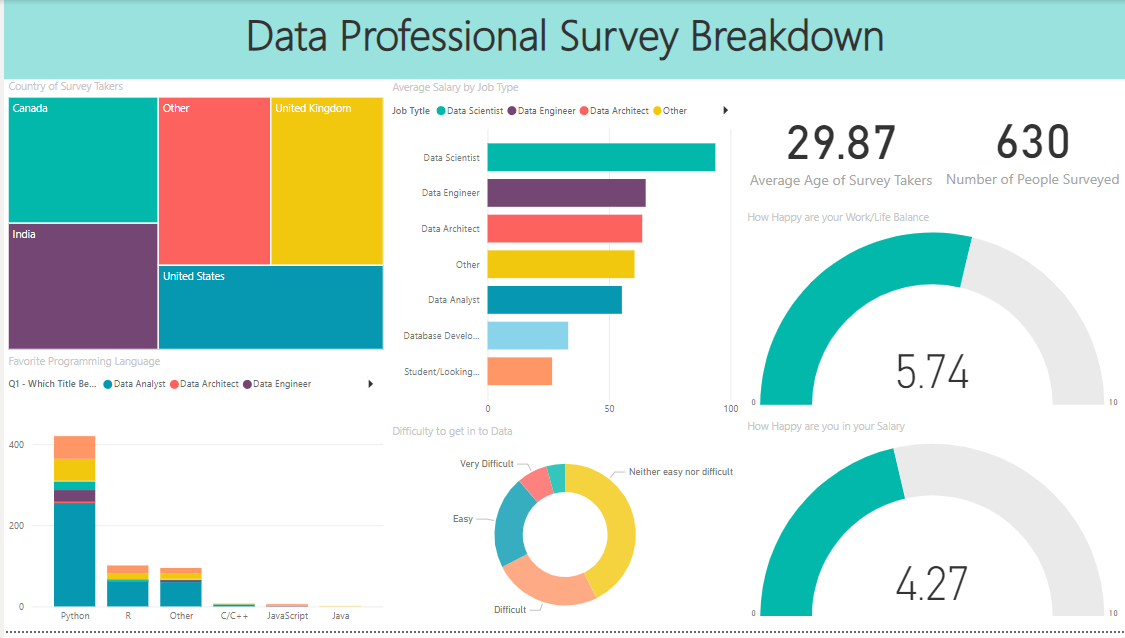

What the dashboard file says about the page in this screenshot:
{"tool":"powerbi","page":{"name":"Page 1","canvas":[1280,720],"ordinal":0},"visuals":[{"type":"textbox","box":[0,0,1280.6,90.5],"z":0},{"type":"card","fields":{"Values":["CountNonNull(Data Professional Survey.Unique ID)"]},"box":[1066.7,89.8,213.9,149.7],"z":1},{"type":"card","fields":{"Values":["Avg(Data Professional Survey.Q10 - Current Age)"]},"box":[842.8,91.3,223.9,149.7],"z":2},{"type":"barChart","title":"Average Salary by Job Type","fields":{"Category":["Data Professional Survey.Q1 - Which Title Best Fits your Current Role?.1"],"Y":["Avg(Data Professional Survey.Average Salery)"],"Series":["Data Professional Survey.Q1 - Which Title Best Fits your Current Role?.1"]},"box":[437.8,91.3,405,392.2],"z":3},{"type":"columnChart","title":"Favorite Programming Language","fields":{"Category":["Data Professional Survey.Q5 - Favorite Programming Language.1"],"Y":["CountNonNull(Data Professional Survey.Unique ID)"],"Series":["Data Professional Survey.Q1 - Which Title Best Fits your Current Role?.1"]},"box":[0,403.6,437.8,316.6],"z":4},{"type":"treemap","title":"Country of Survey Takers","fields":{"Group":["Data Professional Survey.Q11 - Which Country do you live in?.1"],"Values":["Count(Data Professional Survey.Q11 - Which Country do you live in?.1)"]},"box":[0,89.8,437.8,313.7],"z":5},{"type":"gauge","title":"How Happy are you in your Salary","fields":{"Y":["Avg(Data Professional Survey.Q6 - How Happy are you in your Current Position with the following? (Salary))"],"MinValue":["Min(Data Professional Survey.Q6 - How Happy are you in your Current Position with the following? (Salary))"],"MaxValue":["Max(Data Professional Survey.Q6 - How Happy are you in your Current Position with the following? (Salary))"]},"box":[842.8,477.7,437.8,242.4],"z":6},{"type":"gauge","title":"How Happy are your Work/Life Balance","fields":{"Y":["Avg(Data Professional Survey.Q6 - How Happy are you in your Current Position with the following? (Work/Life Balance))"],"MinValue":["Min(Data Professional Survey.Q6 - How Happy are you in your Current Position with the following? (Work/Life Balance))"],"MaxValue":["Max(Data Professional Survey.Q6 - How Happy are you in your Current Position with the following? (Work/Life Balance))"]},"box":[842.8,239.6,437.8,236.7],"z":7},{"type":"donutChart","title":"Difficulty to get in to Data","fields":{"Category":["Data Professional Survey.Q7 - How difficult was it for you to break into Data?"],"Y":["CountNonNull(Data Professional Survey.Q7 - How difficult was it for you to break into Data?)"]},"box":[437.8,483.4,405,236.7],"z":8}]}

Visuals, with their boxes in screenshot pixels (x1, y1, x2, y2), scaled from the page's 1280x720 canvas onto the 1125x638 screenshot:
textbox: (left=0, top=0, right=1124, bottom=80)
card - CountNonNull(Data Professional Survey.Unique ID): (left=938, top=80, right=1124, bottom=212)
card - Avg(Data Professional Survey.Q10 - Current Age): (left=741, top=81, right=938, bottom=214)
"Average Salary by Job Type" barChart: (left=385, top=81, right=741, bottom=428)
"Favorite Programming Language" columnChart: (left=0, top=358, right=385, bottom=637)
"Country of Survey Takers" treemap: (left=0, top=80, right=385, bottom=358)
"How Happy are you in your Salary" gauge: (left=741, top=423, right=1124, bottom=637)
"How Happy are your Work/Life Balance" gauge: (left=741, top=212, right=1124, bottom=422)
"Difficulty to get in to Data" donutChart: (left=385, top=428, right=741, bottom=637)
